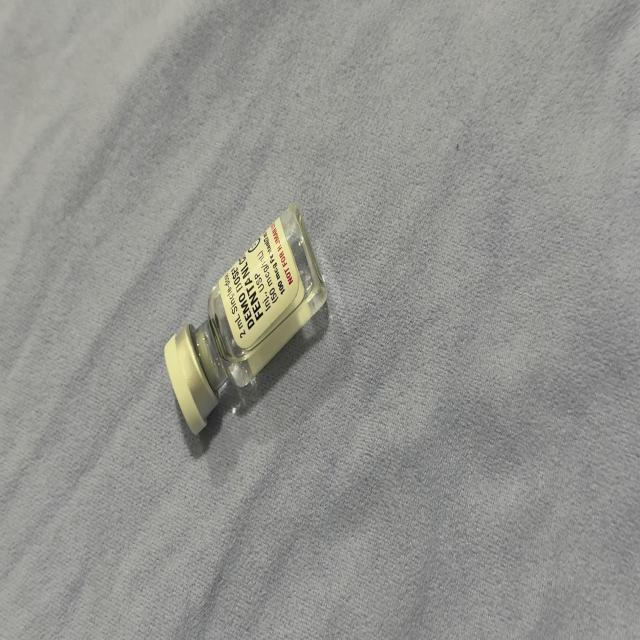fentanl_citrat: (167, 208, 326, 432)
